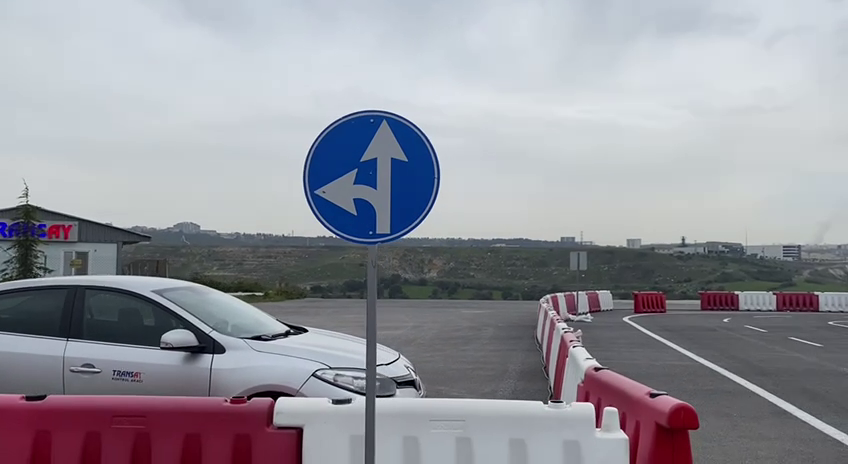forwardAndLeft: (299, 105, 443, 249)
